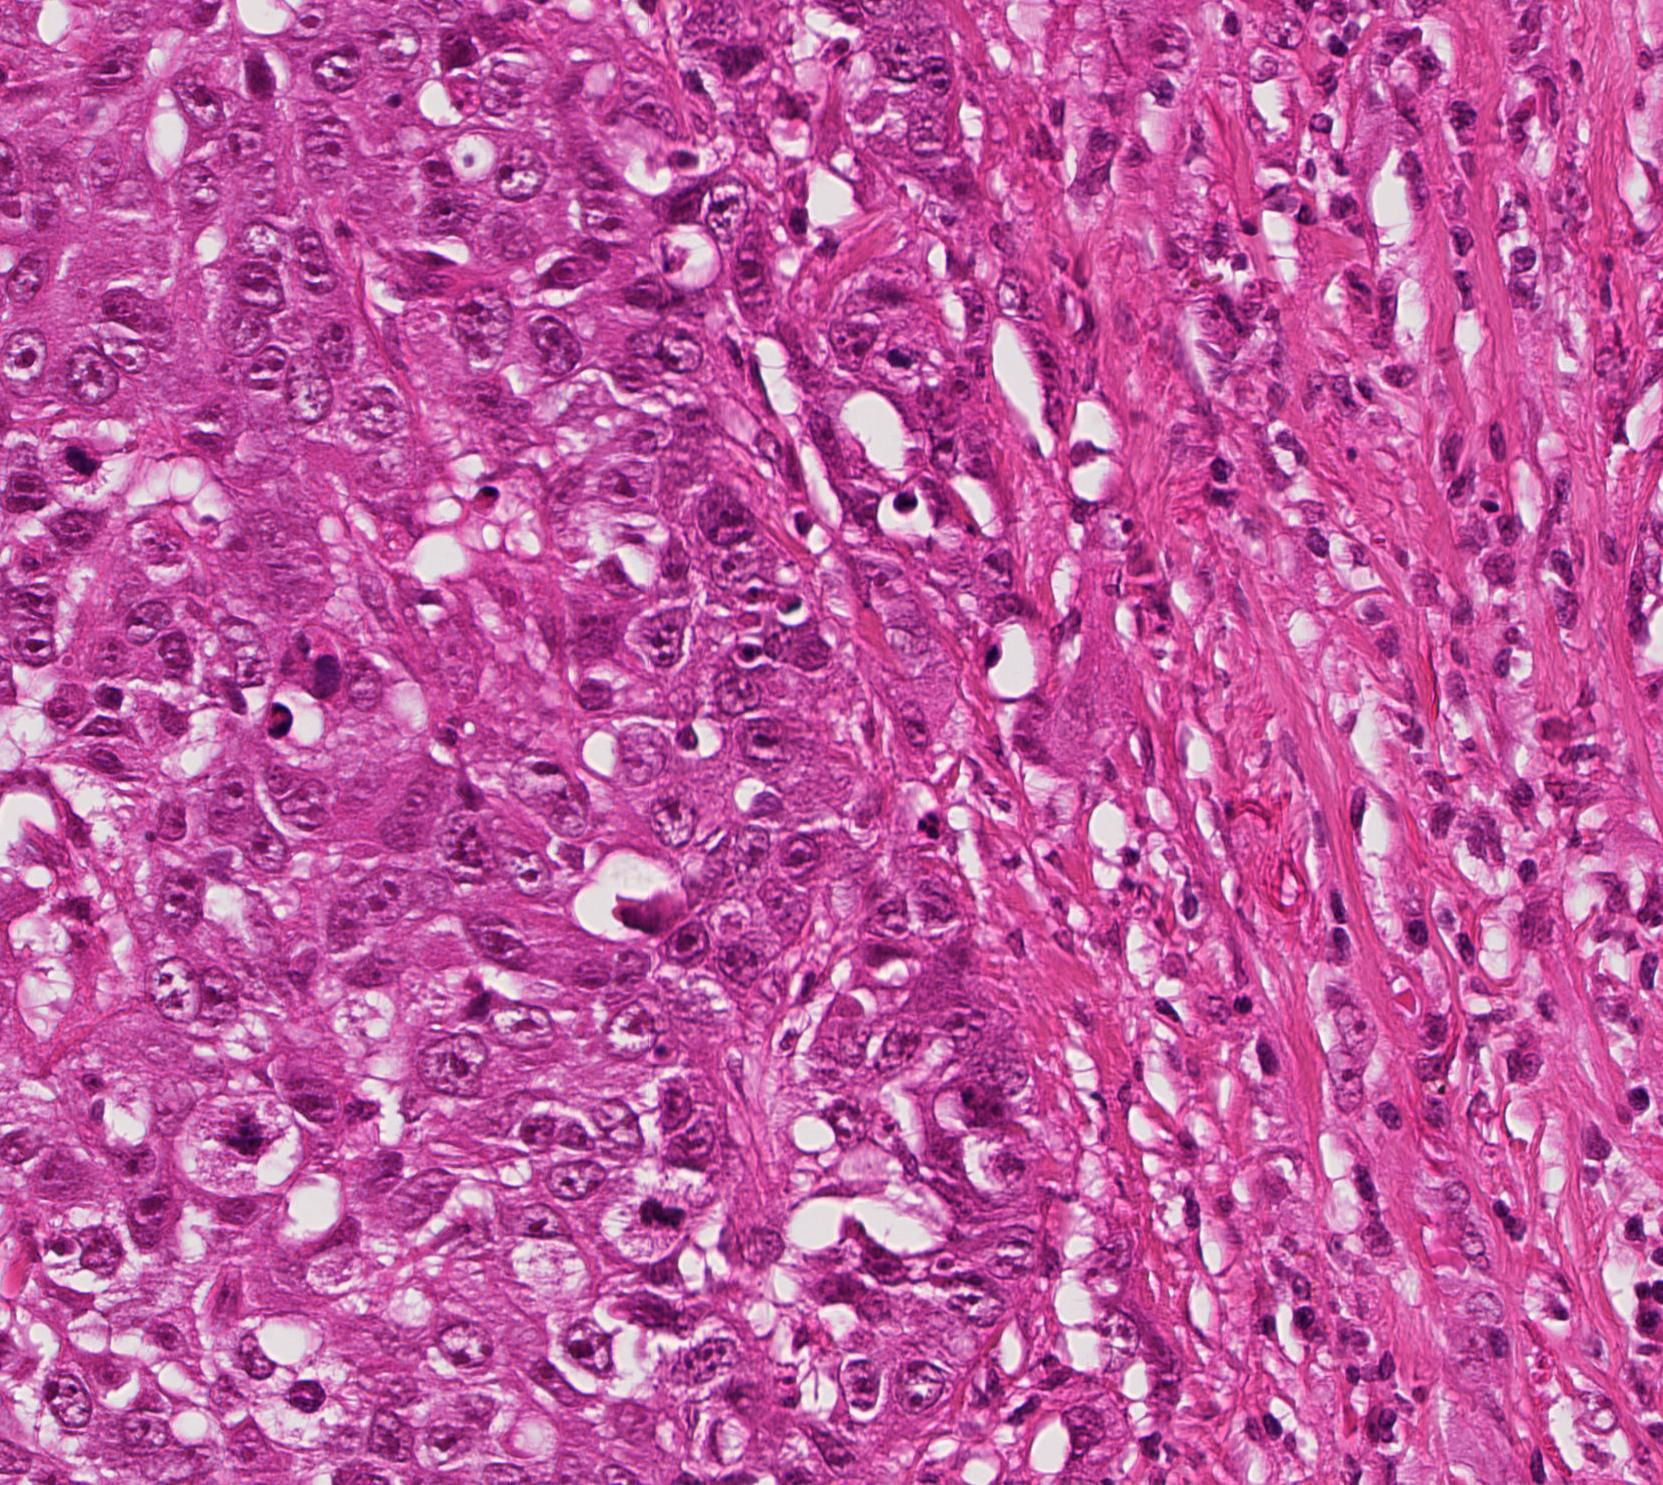mitosis: (632, 1183, 692, 1241)
